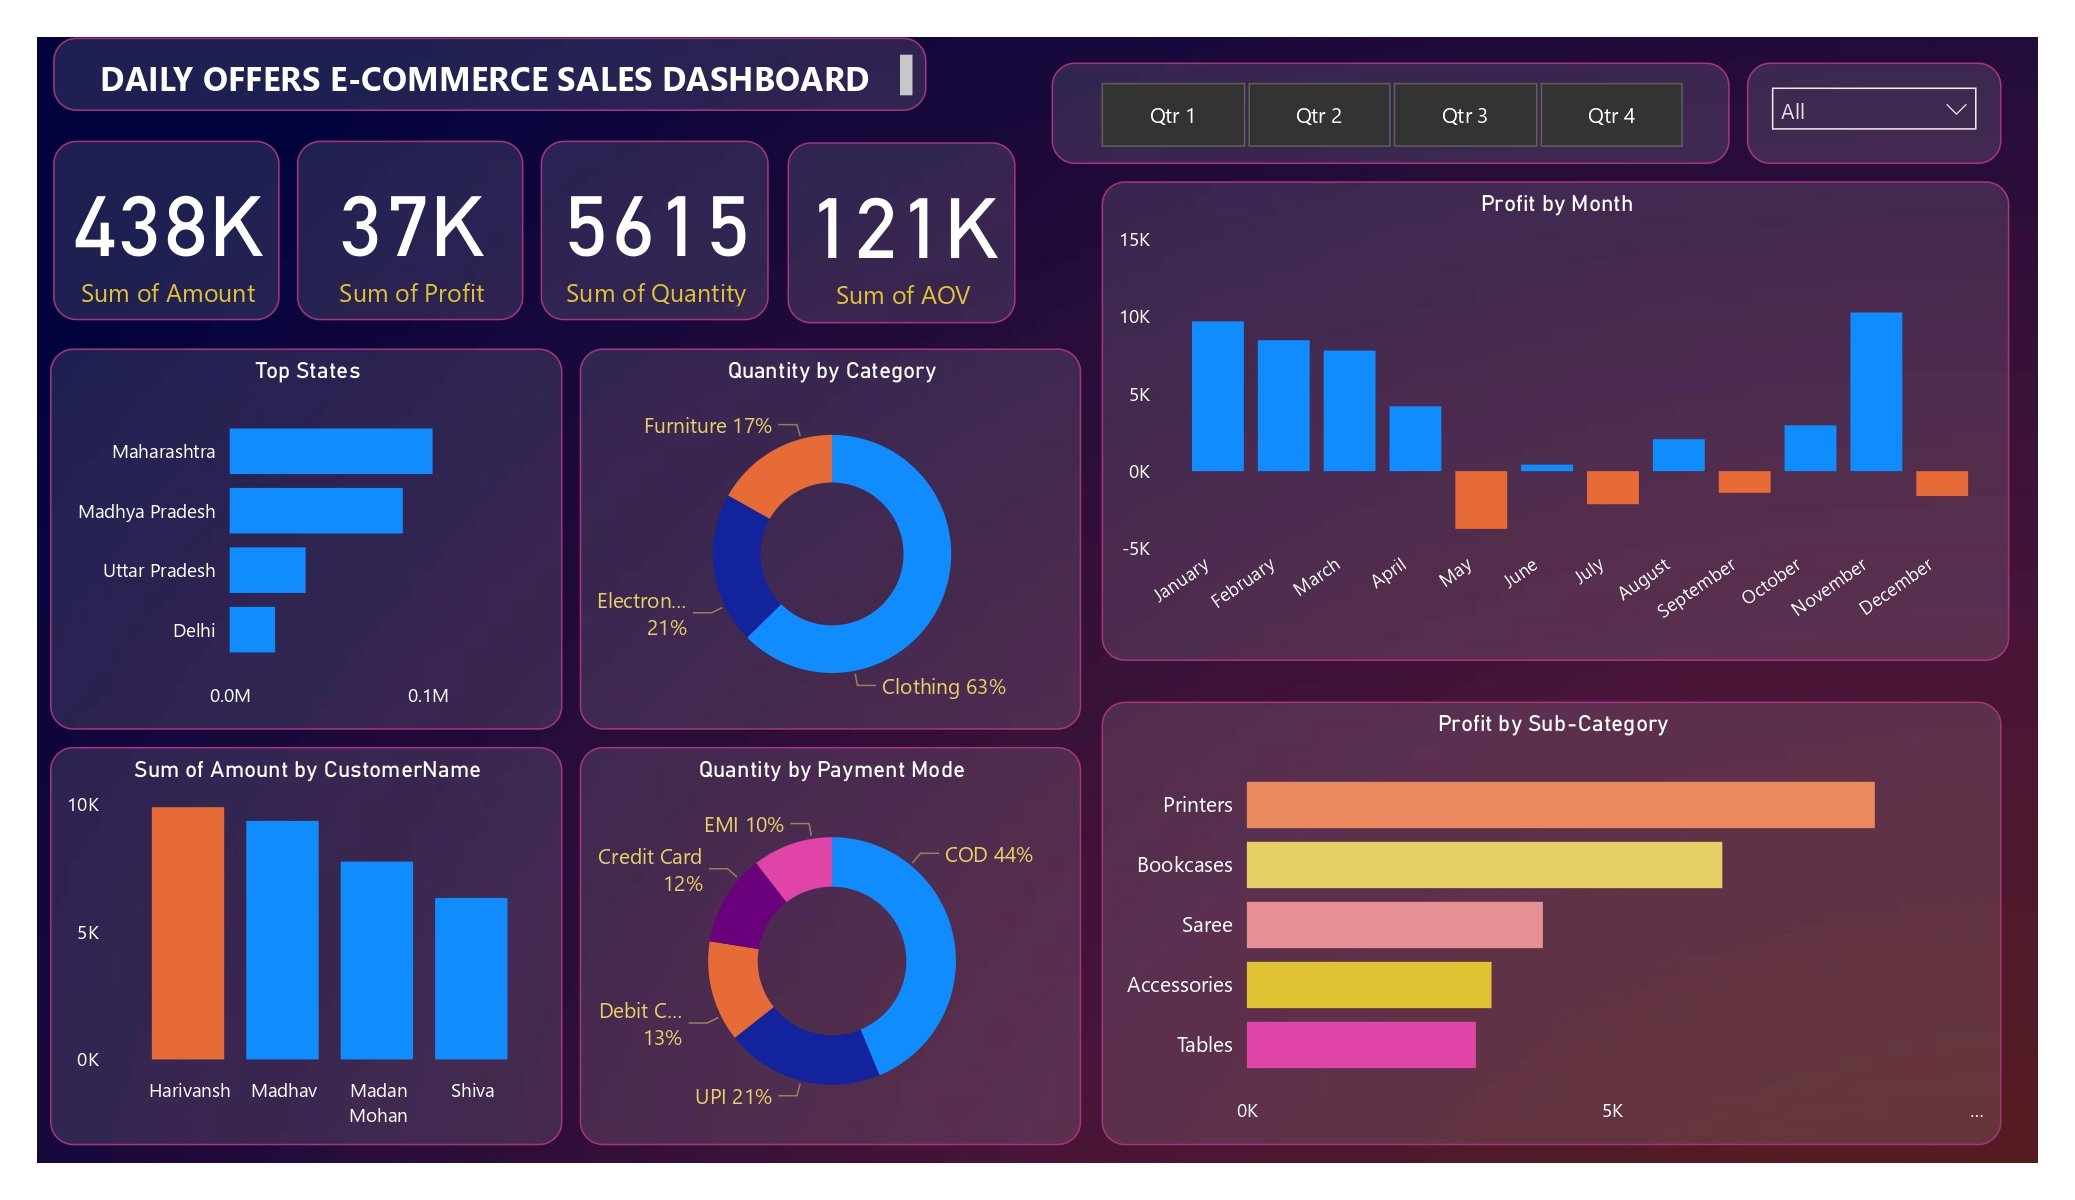

Layout of this report page (visuals, bound fields, positions):
{"tool":"powerbi","page":{"name":"Page 1","canvas":[1280,720],"ordinal":0},"visuals":[{"type":"textbox","box":[9.6,0,559.9,46.7],"z":0},{"type":"columnChart","title":"Profit by Month","fields":{"Category":["Orders.Order Date.Variation.Date Hierarchy.Month"],"Y":["Details.Profit"]},"box":[680.6,91.9,581.8,307.4],"z":1000},{"type":"barChart","title":"Profit by Sub-Category","fields":{"Category":["Details.Sub-Category"],"Y":["Details.Profit"]},"box":[680.6,425.4,576.3,284],"z":2000},{"type":"donutChart","title":"Quantity by Category","fields":{"Category":["Details.Category"],"Y":["Details.Quantity"]},"box":[347.2,199,321.1,244.3],"z":3000},{"type":"donutChart","title":"Quantity by Payment Mode","fields":{"Category":["Details.PaymentMode"],"Y":["Details.Quantity"]},"box":[347.2,454.2,321.1,255.2],"z":4000},{"type":"card","fields":{"Values":["Details.Amount"]},"box":[9.6,65.9,145.5,115.3],"z":5000},{"type":"card","fields":{"Values":["Details.Profit"]},"box":[166,65.9,145.5,115.3],"z":6000},{"type":"card","fields":{"Values":["Details.Quantity"]},"box":[322.5,65.9,145.5,115.3],"z":7000},{"type":"card","fields":{"Values":["Details.Avg Order Value"]},"box":[480.3,67.2,145.5,115.3],"z":8000},{"type":"barChart","title":"Top States","fields":{"Category":["Orders.State"],"Y":["Details.Amount"]},"box":[8.2,199,328,244.3],"z":9000},{"type":"columnChart","fields":{"Category":["Orders.CustomerName"],"Y":["Details.Amount"]},"box":[8,454,328,255],"z":9001},{"type":"slicer","fields":{"Values":["Orders.Order Date.Variation.Date Hierarchy.Quarter"]},"box":[649.1,16.5,433.6,64.5],"z":9002},{"type":"slicer","fields":{"Values":["Orders.State"]},"box":[1093.7,16.5,163.3,64.5],"z":9003}]}

Visuals, with their boxes on the page's 1280x720 design canvas (x1, y1, x2, y2). These are canvas units, not pixel positions in the 2075x1200 screenshot, which may show the page scaled, cropped or inside an application window:
textbox: locate(10, 0, 570, 47)
"Profit by Month" columnChart: locate(681, 92, 1262, 399)
"Profit by Sub-Category" barChart: locate(681, 425, 1257, 709)
"Quantity by Category" donutChart: locate(347, 199, 668, 443)
"Quantity by Payment Mode" donutChart: locate(347, 454, 668, 709)
card - Details.Amount: locate(10, 66, 155, 181)
card - Details.Profit: locate(166, 66, 312, 181)
card - Details.Quantity: locate(322, 66, 468, 181)
card - Details.Avg Order Value: locate(480, 67, 626, 182)
"Top States" barChart: locate(8, 199, 336, 443)
columnChart - Orders.CustomerName x Details.Amount: locate(8, 454, 336, 709)
slicer - Orders.Order Date.Variation.Date Hierarchy.Quarter: locate(649, 16, 1083, 81)
slicer - Orders.State: locate(1094, 16, 1257, 81)
